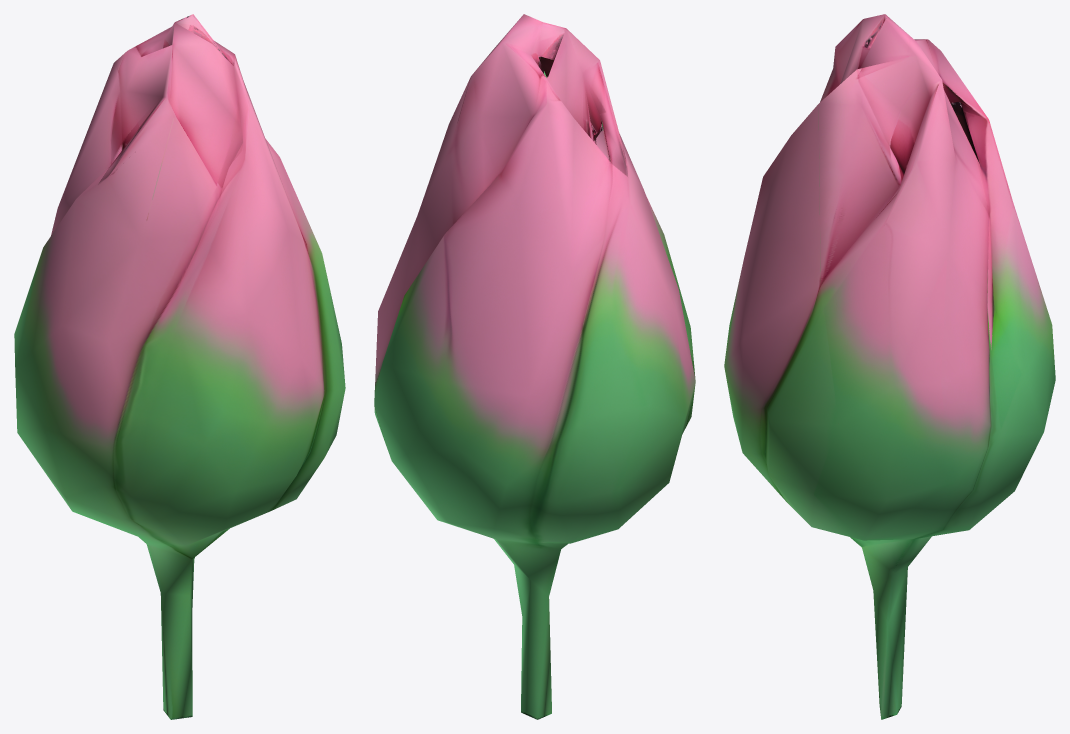
File: flower-bud.glb
3 renders of one model, left to right at view 1: azimuth 30°, elevation 25°; view 2: azimuth 150°, elevation 25°; view 3: azimuth 270°, elevation 25°, orthographic.
Size of the model in its own units: 0.8511 by 2.02 by 0.863.
1 material, 1 textured.
